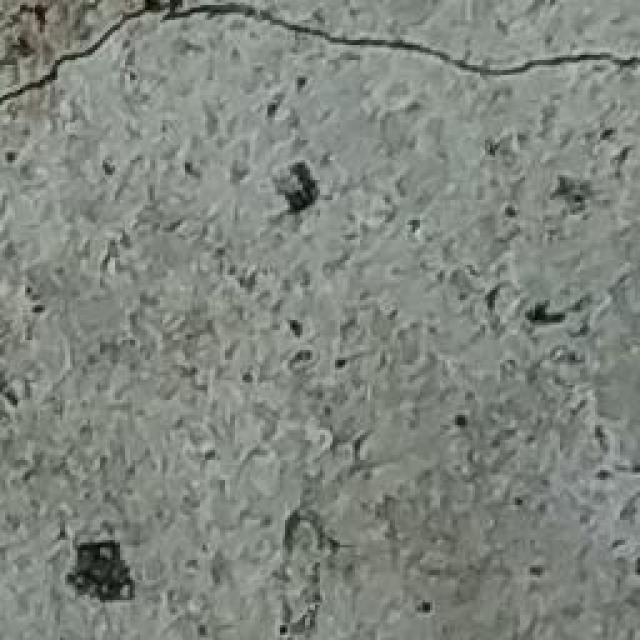Transverse: (4, 0, 640, 109)
